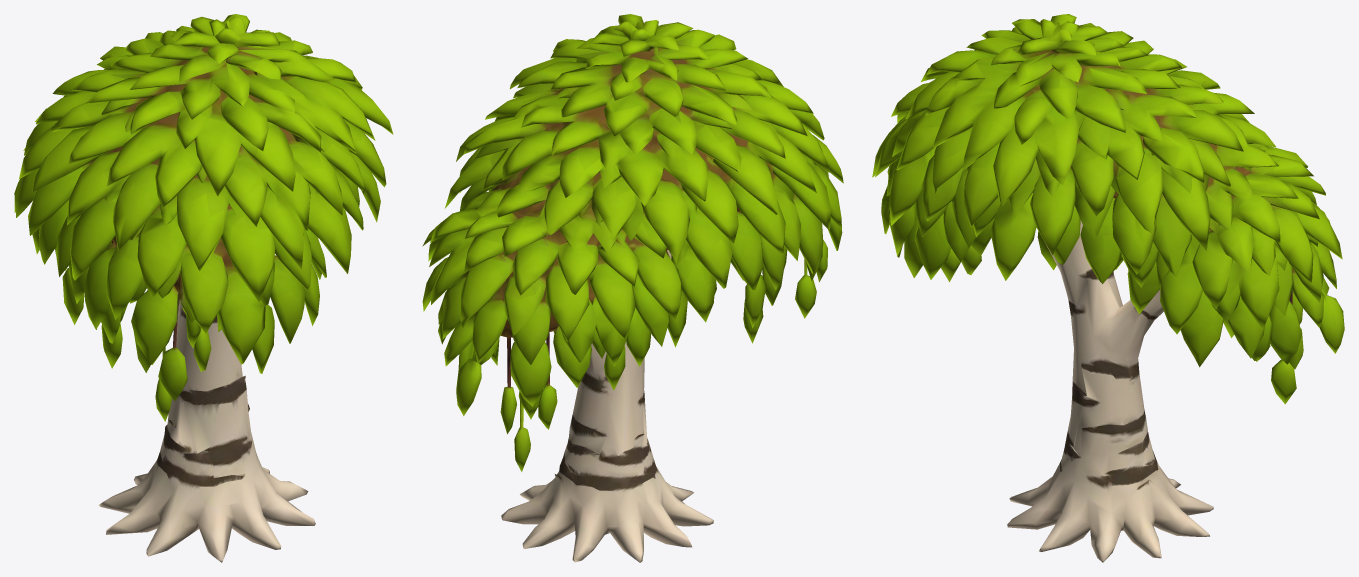
The model's file is tree_birch.glb.
The picture shows the model from 3 angles, left to right: view 1: azimuth 30°, elevation 25°; view 2: azimuth 150°, elevation 25°; view 3: azimuth 270°, elevation 25°; orthographic projection. The views are drawn at different scales.
Visible parts, largest first — view 1: tripo_node_0ffaae06-04e6-4bda-a734-e6ec44ec65fe; view 2: tripo_node_0ffaae06-04e6-4bda-a734-e6ec44ec65fe; view 3: tripo_node_0ffaae06-04e6-4bda-a734-e6ec44ec65fe.
Part boxes in pixels (x1=…): tripo_node_0ffaae06-04e6-4bda-a734-e6ec44ec65fe: x1=14, y1=14, x2=393, y2=562; tripo_node_0ffaae06-04e6-4bda-a734-e6ec44ec65fe: x1=422, y1=14, x2=843, y2=562; tripo_node_0ffaae06-04e6-4bda-a734-e6ec44ec65fe: x1=872, y1=14, x2=1344, y2=562.
Bounding box in the file's own units: 3.06 × 4.6 × 3.98.
Materials: 1 (1 with a texture image).
